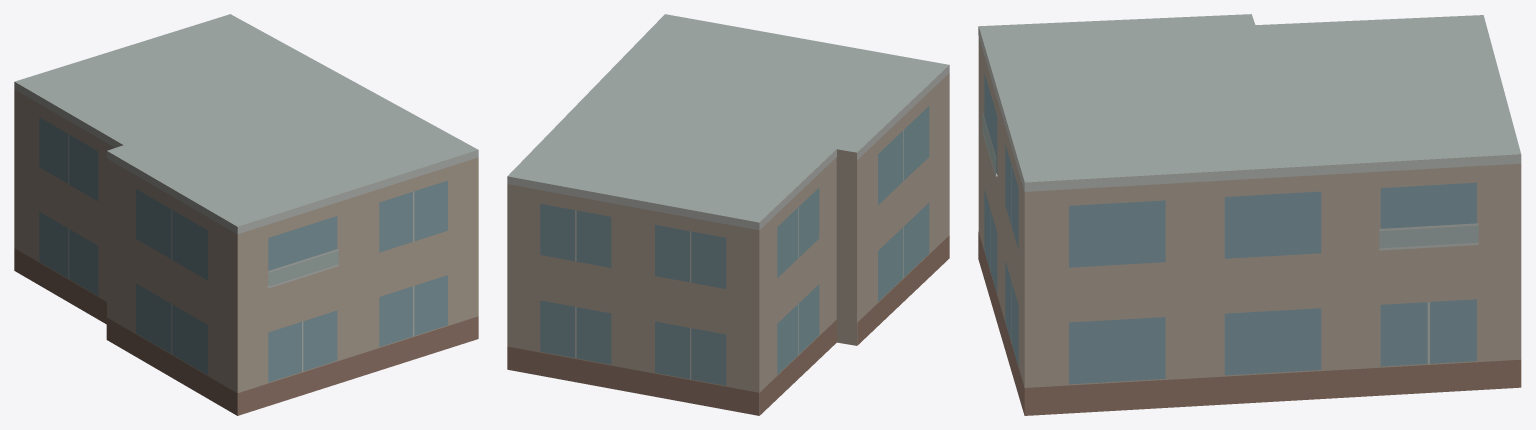
Rendered from survey-upis-32828889.glb.
The picture shows the model from 3 angles, left to right: view 1: azimuth 30°, elevation 25°; view 2: azimuth 150°, elevation 25°; view 3: azimuth 270°, elevation 25°; orthographic projection. The views are drawn at different scales.
Visible parts, largest first — view 1: survey-upis-32828889.tmp; view 2: survey-upis-32828889.tmp; view 3: survey-upis-32828889.tmp.
Boxes of the visible parts, x1,y1,x2,y2 form: survey-upis-32828889.tmp: [14, 14, 478, 415]; survey-upis-32828889.tmp: [507, 14, 949, 415]; survey-upis-32828889.tmp: [978, 14, 1521, 415].
Bounding box in the file's own units: 9.46 × 6.1 × 12.87.
